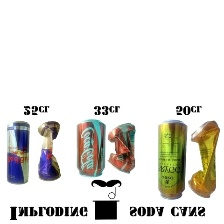can: (186, 116, 221, 201), (152, 115, 186, 202), (1, 118, 34, 189), (70, 113, 106, 178), (105, 122, 139, 177), (35, 119, 62, 184)
